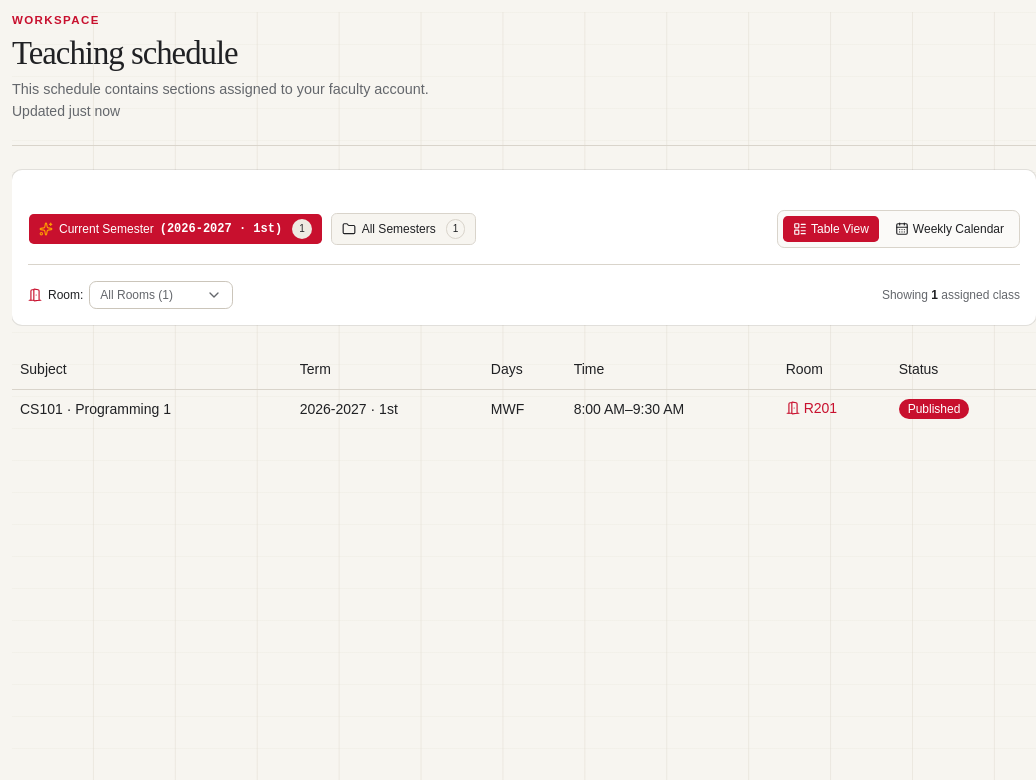
Test: TeachingScheduleWorkspace › switches to weekly calendar view and displays classes on Monday-Saturday grid
The image size is (1036, 780).
Expected: the cell "CS101 · Programming 1" is shown, [12,390,292,428]
Click the button with aria-label "Calendar view" at (949, 229), box [884,215,1015,243]
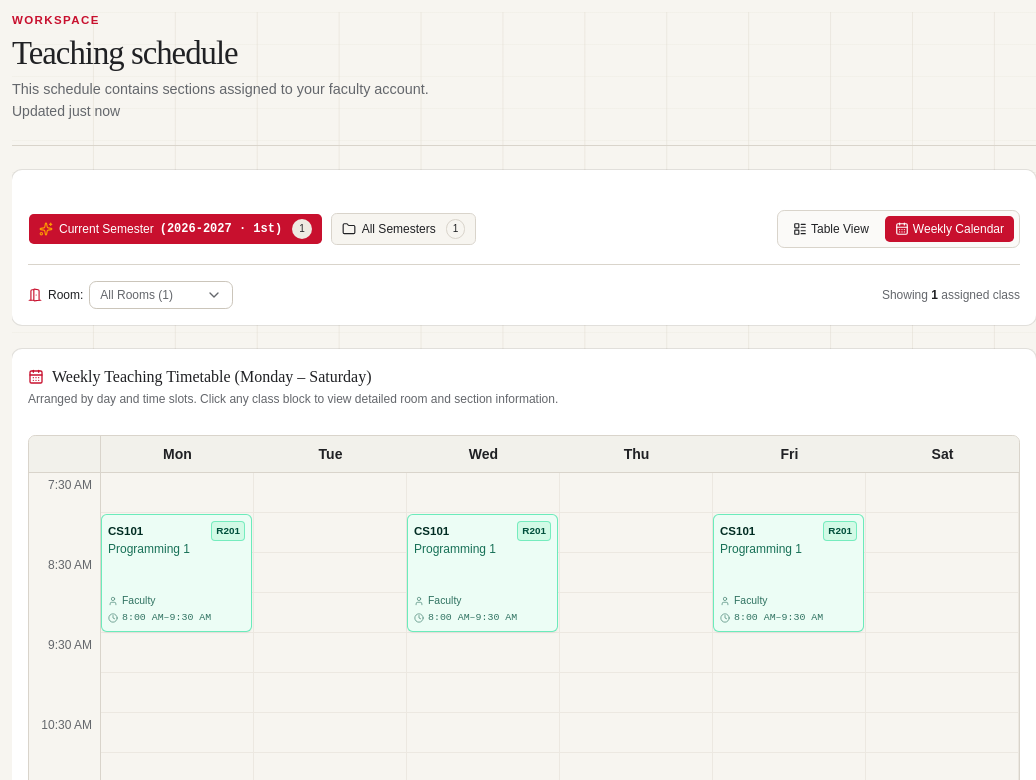
Expected: the heading "Weekly Teaching Timetable (Monday – Saturday)" is shown, [28,368,372,385]
Expected: the 1st text "CS101" is shown, [108,523,143,539]
